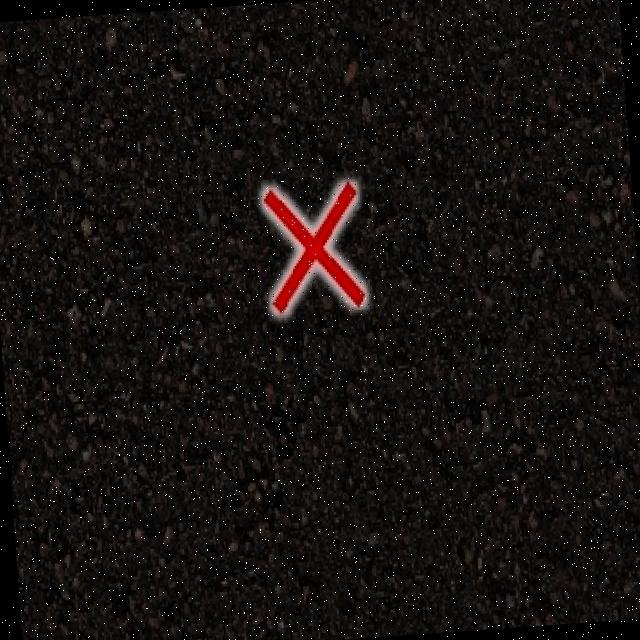x_marker: (262, 182, 364, 312)
